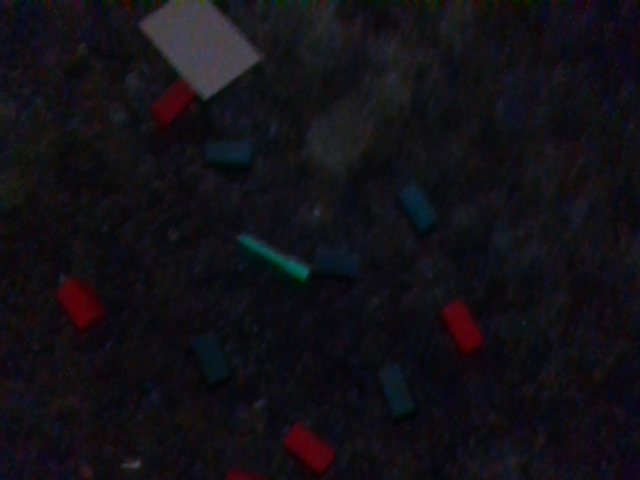Probe: (233, 231, 317, 283)
